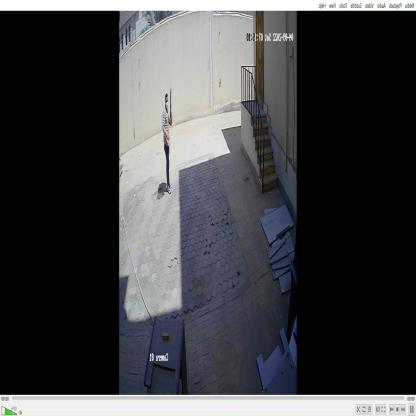handgun: (168, 83, 174, 131)
